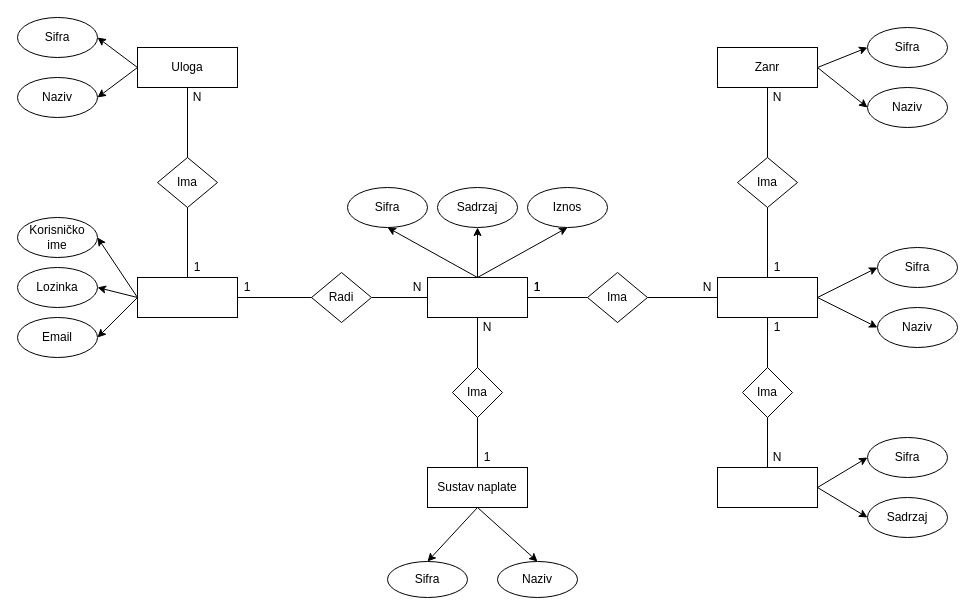
The diagram is 975 pixels wide and 615 high, and some of its shapes have lost their labels. Here are the shapes that lost their labels. From the top down, the centre of each, then its label:
the point at 187,297: Korisnik
the point at 477,297: Narudžba
the point at 767,297: Igra
the point at 767,487: Recenzija
